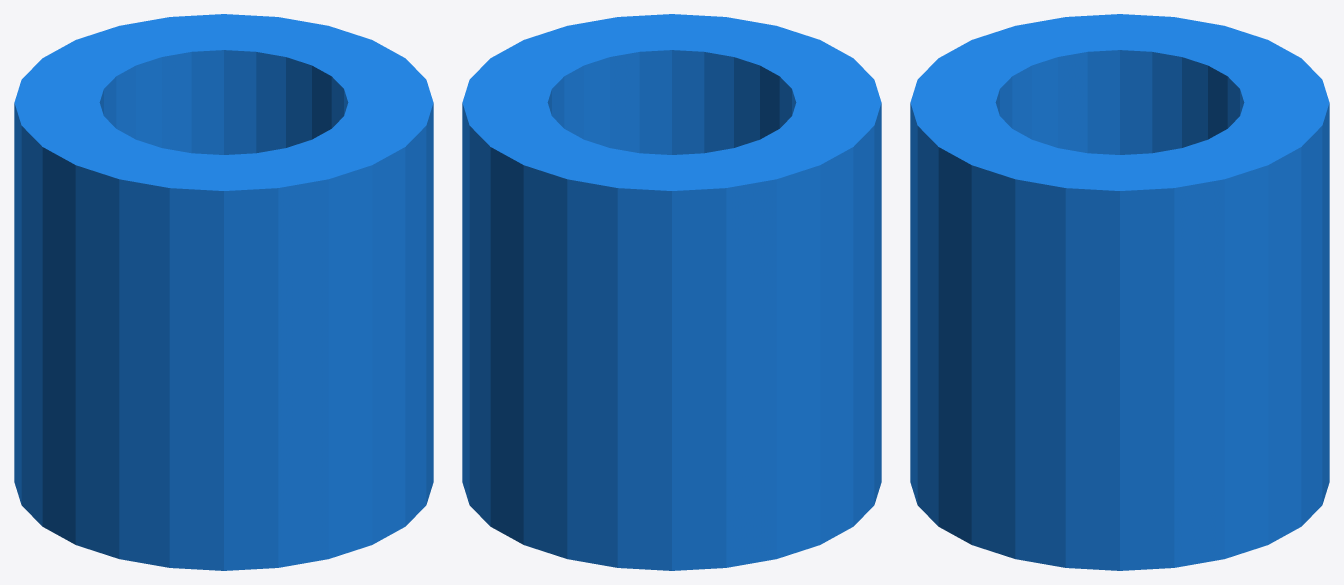
Rendered from Proto_Block_Tube_Round_02.fbx.
3 views of the same model, side by side, from view 1: azimuth 30°, elevation 25°; view 2: azimuth 150°, elevation 25°; view 3: azimuth 270°, elevation 25° (orthographic).
Visible parts, largest first — view 1: Proto_Block_Tube_Round_02; view 2: Proto_Block_Tube_Round_02; view 3: Proto_Block_Tube_Round_02.
Boxes of the visible parts, x1=… form: Proto_Block_Tube_Round_02: x1=14, y1=14, x2=433, y2=570; Proto_Block_Tube_Round_02: x1=462, y1=14, x2=881, y2=570; Proto_Block_Tube_Round_02: x1=910, y1=14, x2=1329, y2=570.
Bounding box in the file's own units: 1 × 1 × 1.
